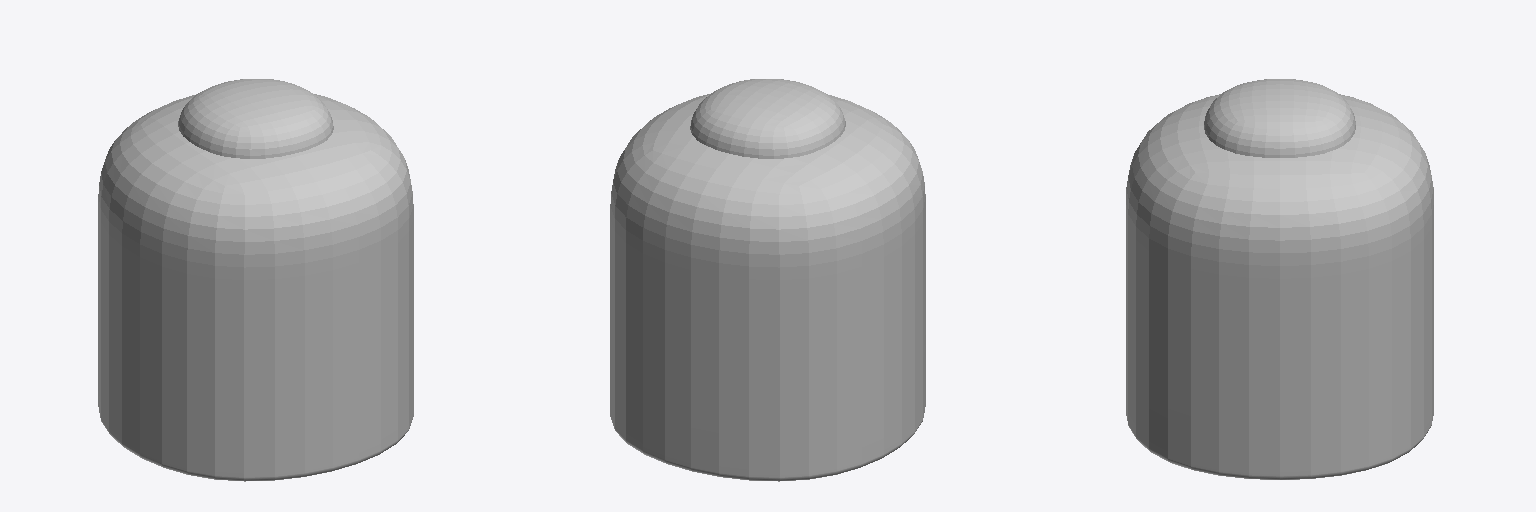
Rendered from buttonBody.obj.
3 renders of one model, left to right at view 1: azimuth 30°, elevation 25°; view 2: azimuth 150°, elevation 25°; view 3: azimuth 270°, elevation 25°, orthographic.
Parts seen in each view (by area): view 1: Cube; view 2: Cube; view 3: Cube.
Part boxes in pixels (bbox=[...]): Cube: bbox=[98, 79, 413, 481]; Cube: bbox=[610, 79, 925, 481]; Cube: bbox=[1126, 79, 1433, 479].
Bounding box in the file's own units: 3.67 × 4.22 × 3.67.